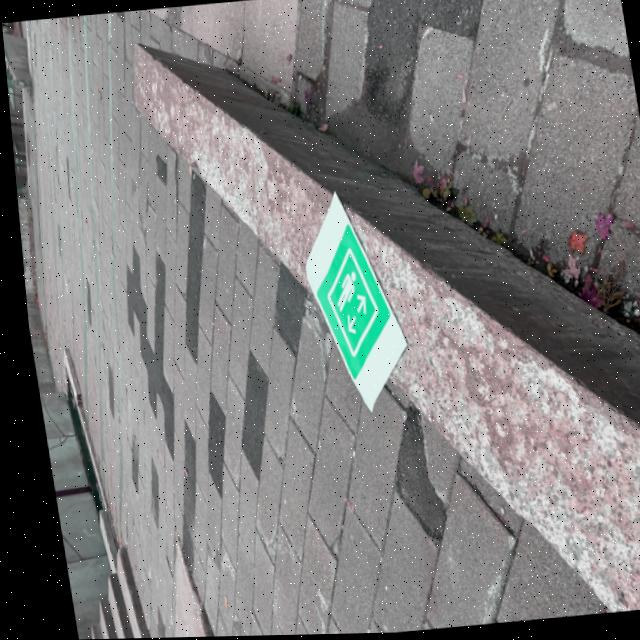elevator: (317, 224, 392, 378)
